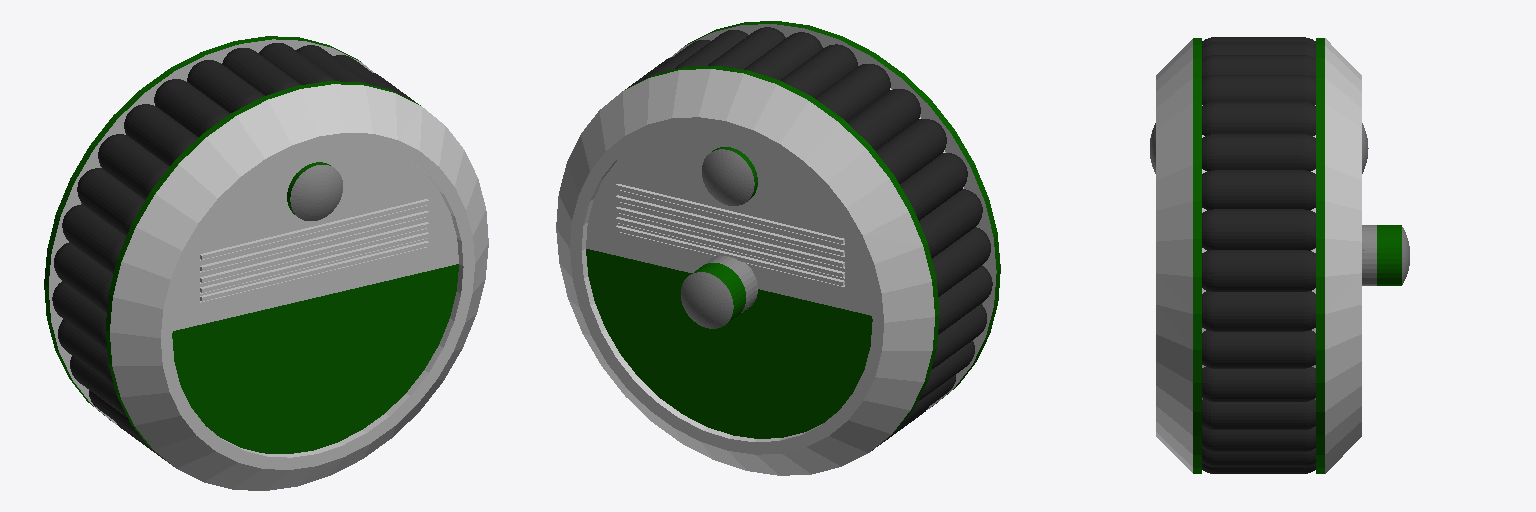
The model's file is d0_body.obj.
The picture shows the model from 3 angles: view 1: azimuth 30°, elevation 25°; view 2: azimuth 150°, elevation 25°; view 3: azimuth 270°, elevation 25°; orthographic projection.
Visible parts, largest first — view 1: Object.1; view 2: Object.1; view 3: Object.1.
Part boxes in pixels (bbox=[...]): Object.1: bbox=[44, 36, 488, 490]; Object.1: bbox=[556, 21, 1000, 475]; Object.1: bbox=[1150, 37, 1409, 473].
Size of the model in its own units: 1 by 1 by 0.5975.